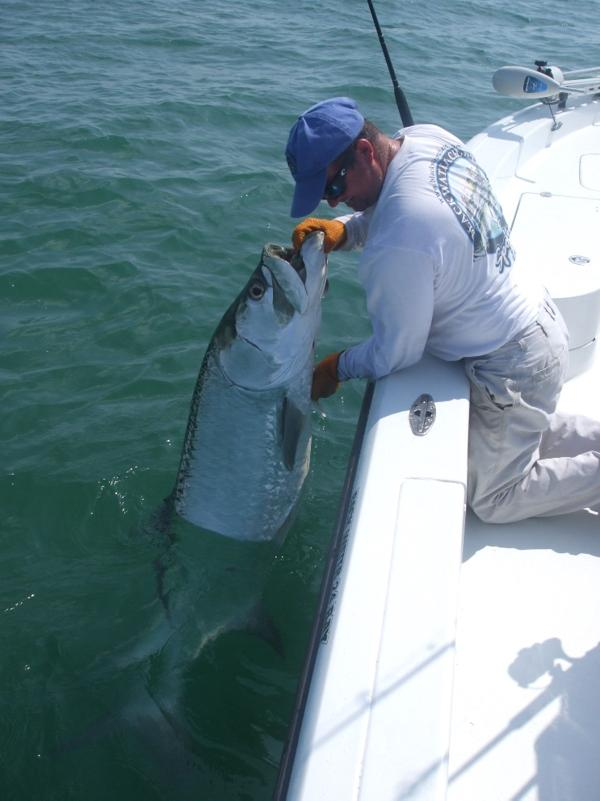person: (287, 95, 600, 526)
